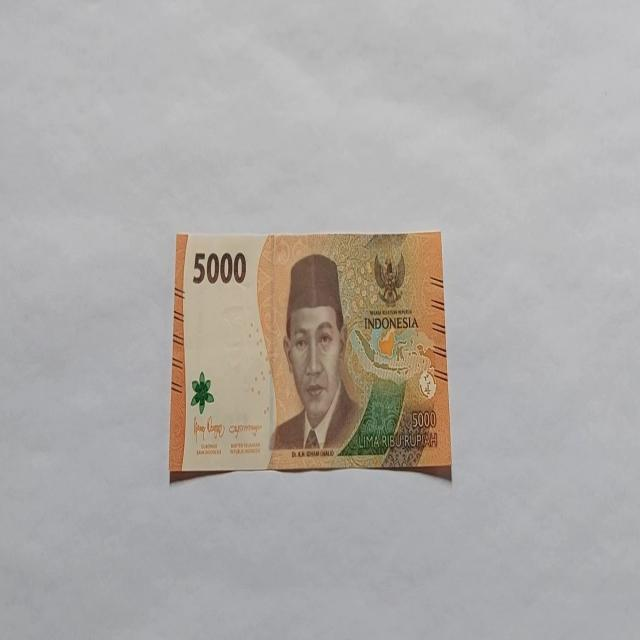lima ribu rupiah: (169, 228, 452, 482), (268, 252, 364, 453)
